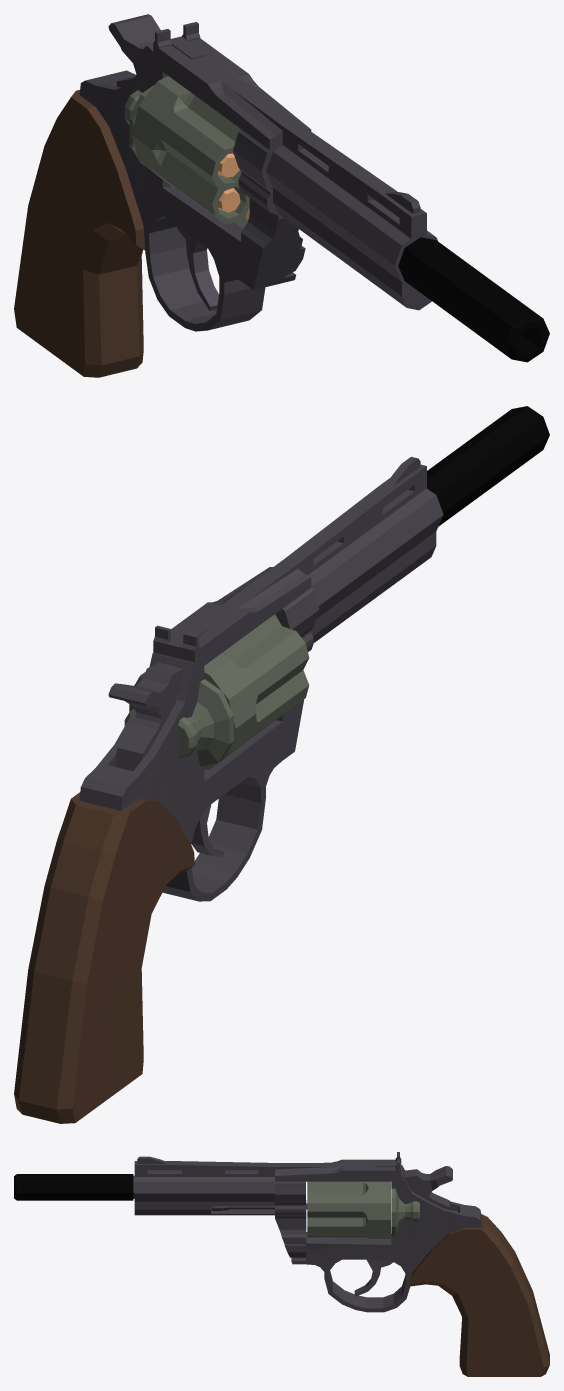
Rendered from Revolver.fbx.
The picture shows the model from 3 angles, top to bottom: view 1: azimuth 30°, elevation 25°; view 2: azimuth 150°, elevation 25°; view 3: azimuth 270°, elevation 25°; orthographic projection. The views are drawn at different scales.
Visible parts, largest first — view 1: Stvol, Rukoyatka, Pricel, Baraban, Glushitel, Puli; view 2: Rukoyatka, Stvol, Baraban, Pricel, Glushitel; view 3: Stvol, Rukoyatka, Baraban, Pricel, Glushitel.
Part boxes in pixels (x1,y1,x2,y2): Stvol: (79, 14, 437, 331); Rukoyatka: (14, 90, 145, 377); Pricel: (153, 22, 426, 238); Baraban: (124, 76, 249, 228); Glushitel: (398, 237, 549, 362); Puli: (217, 153, 249, 219); Rukoyatka: (14, 792, 194, 1123); Stvol: (79, 488, 443, 901); Baraban: (124, 614, 309, 769); Pricel: (153, 456, 426, 662); Glushitel: (427, 406, 549, 525); Stvol: (133, 1165, 481, 1312); Rukoyatka: (410, 1214, 549, 1376); Baraban: (307, 1181, 419, 1238); Pricel: (134, 1152, 401, 1176); Glushitel: (14, 1174, 133, 1200).
Bounding box in the file's own units: 1.08 × 3.86 × 8.86.
Materials: 1 (1 with a texture image).
